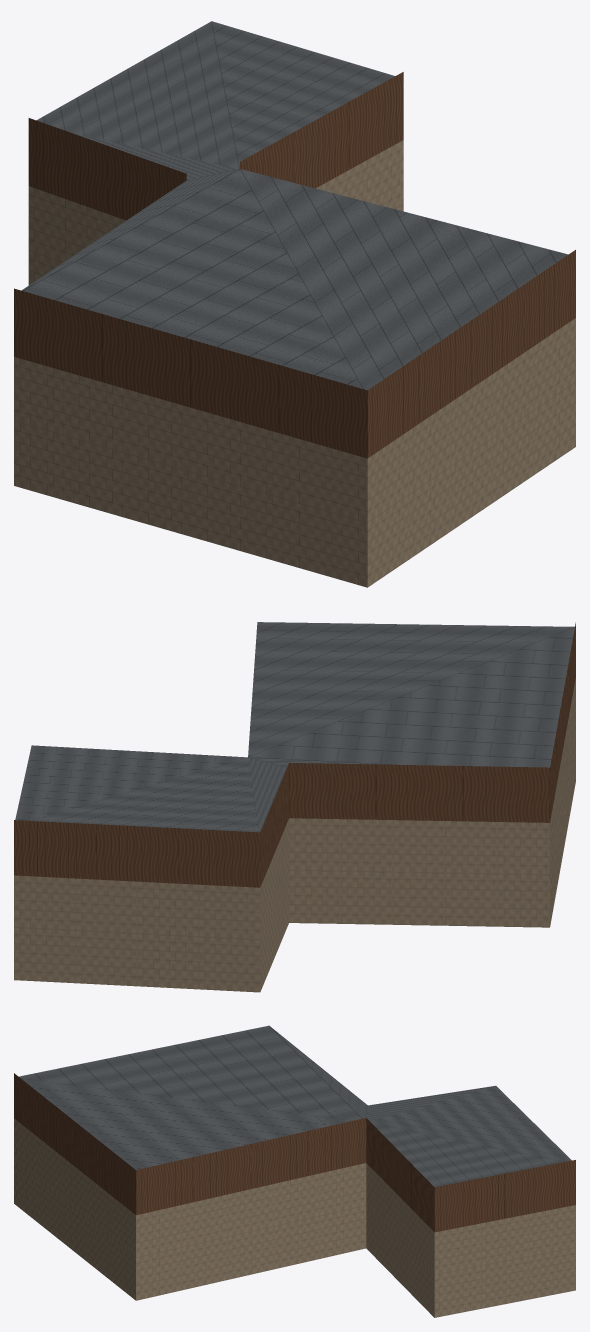
The model's file is bld_c42_48_186.gltf.
3 views of the same model, one above another, from view 1: azimuth 30°, elevation 25°; view 2: azimuth 150°, elevation 25°; view 3: azimuth 270°, elevation 25° (orthographic). The views are drawn at different scales.
Parts seen in each view (by area): view 1: bld_c42_48_186; view 2: bld_c42_48_186; view 3: bld_c42_48_186.
Part boxes in pixels (x1,y1,x2,y2): bld_c42_48_186: (14, 21, 575, 587); bld_c42_48_186: (14, 622, 575, 992); bld_c42_48_186: (14, 1025, 575, 1317).
Size of the model in its own units: 18.76 by 6.88 by 26.81.
4 materials, 4 textured.
